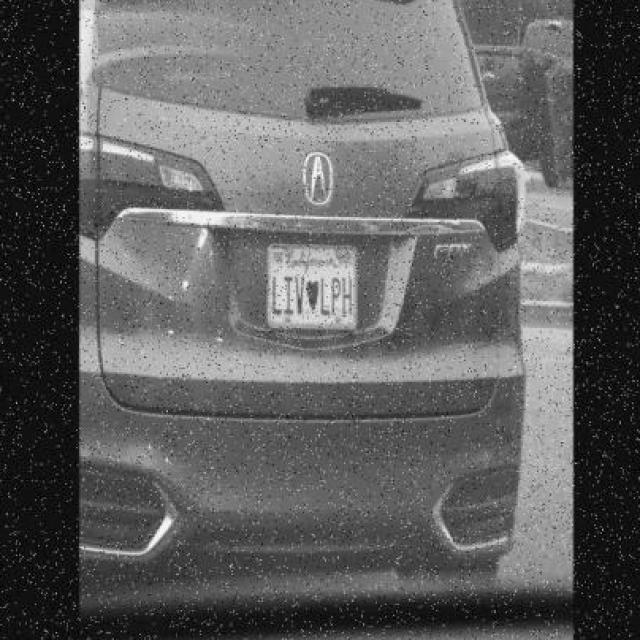licenseplate: (262, 229, 365, 340)
